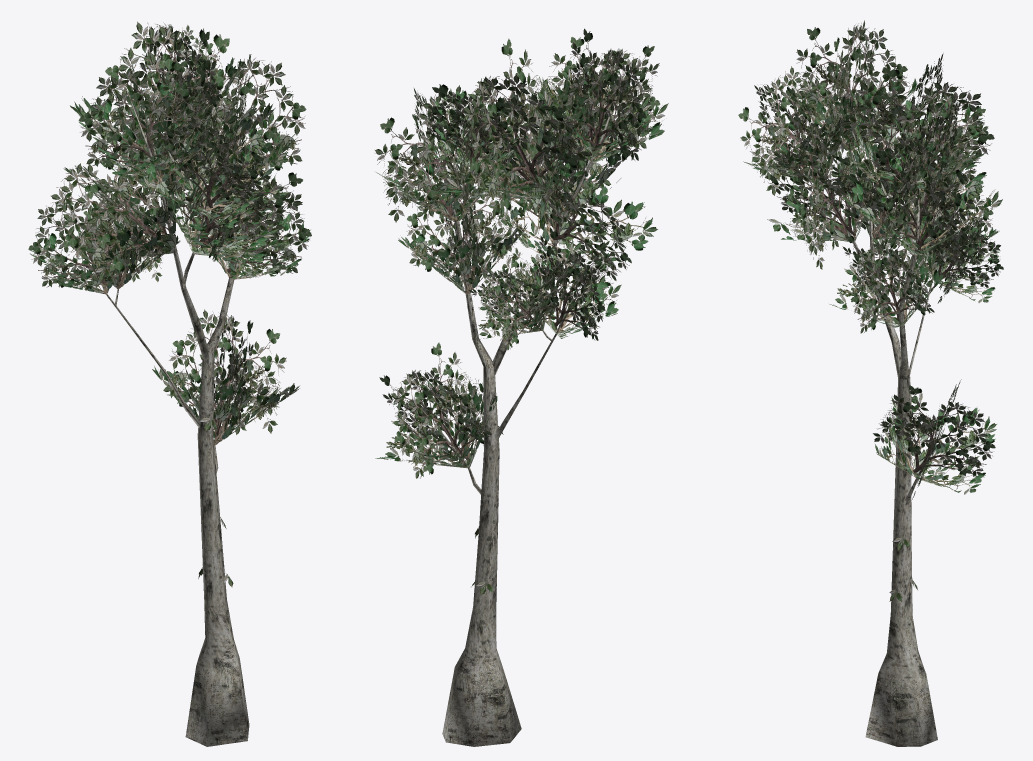
File: decd_whitebirchtreeleaves_l0.fbx
3 renders of one model, left to right at view 1: azimuth 30°, elevation 25°; view 2: azimuth 150°, elevation 25°; view 3: azimuth 270°, elevation 25°, orthographic. The views are drawn at different scales.
Visible parts, largest first — view 1: mesh_node; view 2: mesh_node; view 3: mesh_node.
Boxes of the visible parts, x1,y1,x2,y2 form: mesh_node: (28,21,311,746); mesh_node: (375,28,668,746); mesh_node: (738,20,1003,746).
Bounding box in the file's own units: 7.19 × 17.09 × 6.82.
